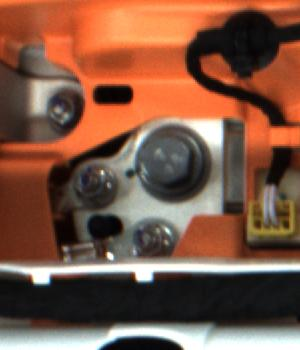nut_b: (129, 120, 224, 201)
screw_s: (63, 161, 106, 193), (131, 220, 170, 253), (41, 95, 72, 126)
